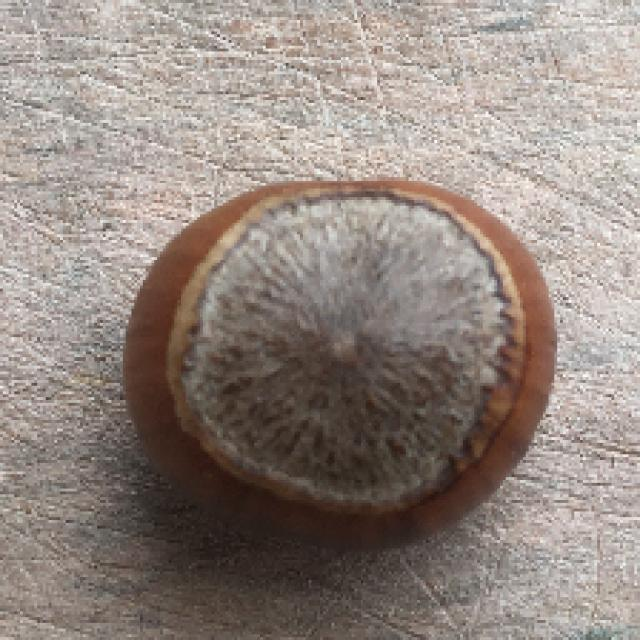DamagedHazelnut: (114, 174, 557, 546)
